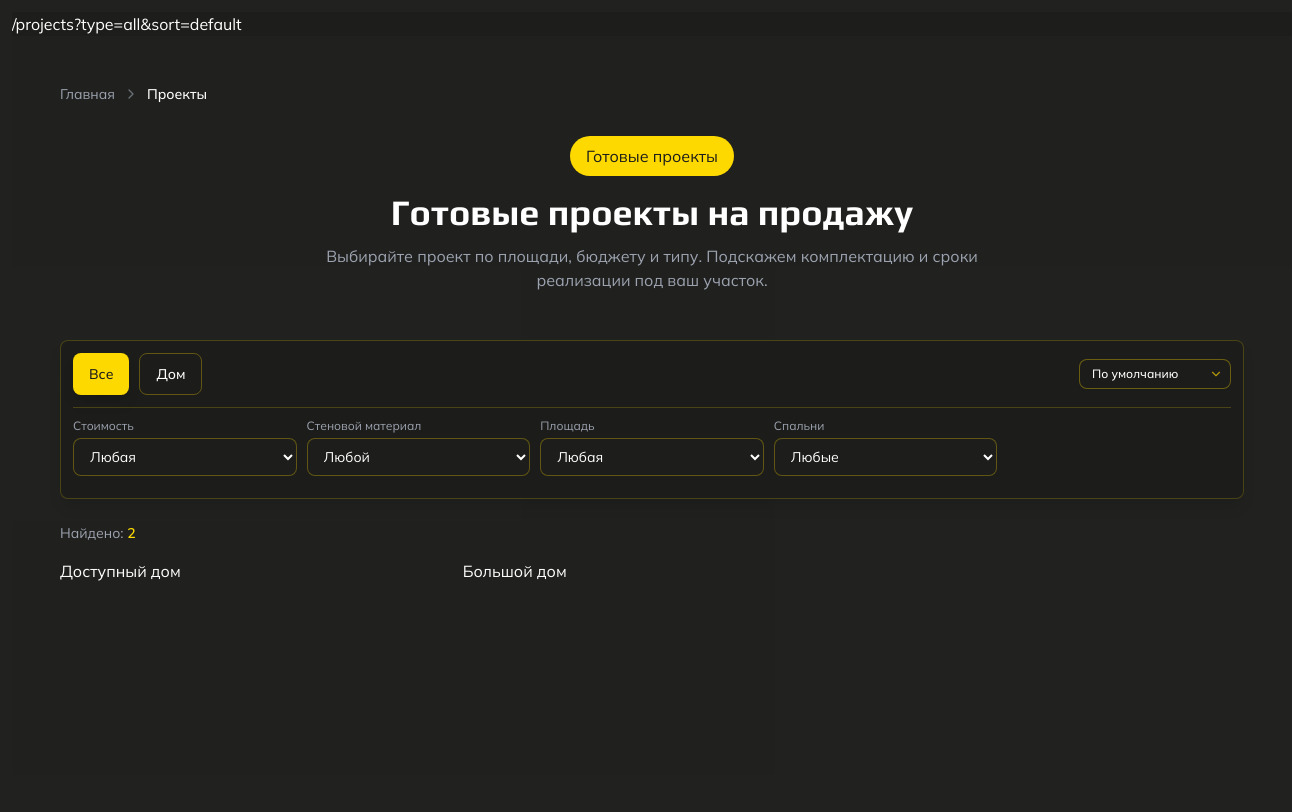
Test: catalog filters UI › показывает только непустые типы и диапазоны стоимости готовых проектов
Check: the button "Дом" is shown, box left=140, top=353, right=202, bottom=395
Check: the dropdown labelled "Спальни" is shown, box left=774, top=438, right=997, bottom=476
Step 1. Select "до 30 000 ₽" in the dropdown labelled "Стоимость" → coordinates (185, 457), box left=73, top=438, right=297, bottom=476
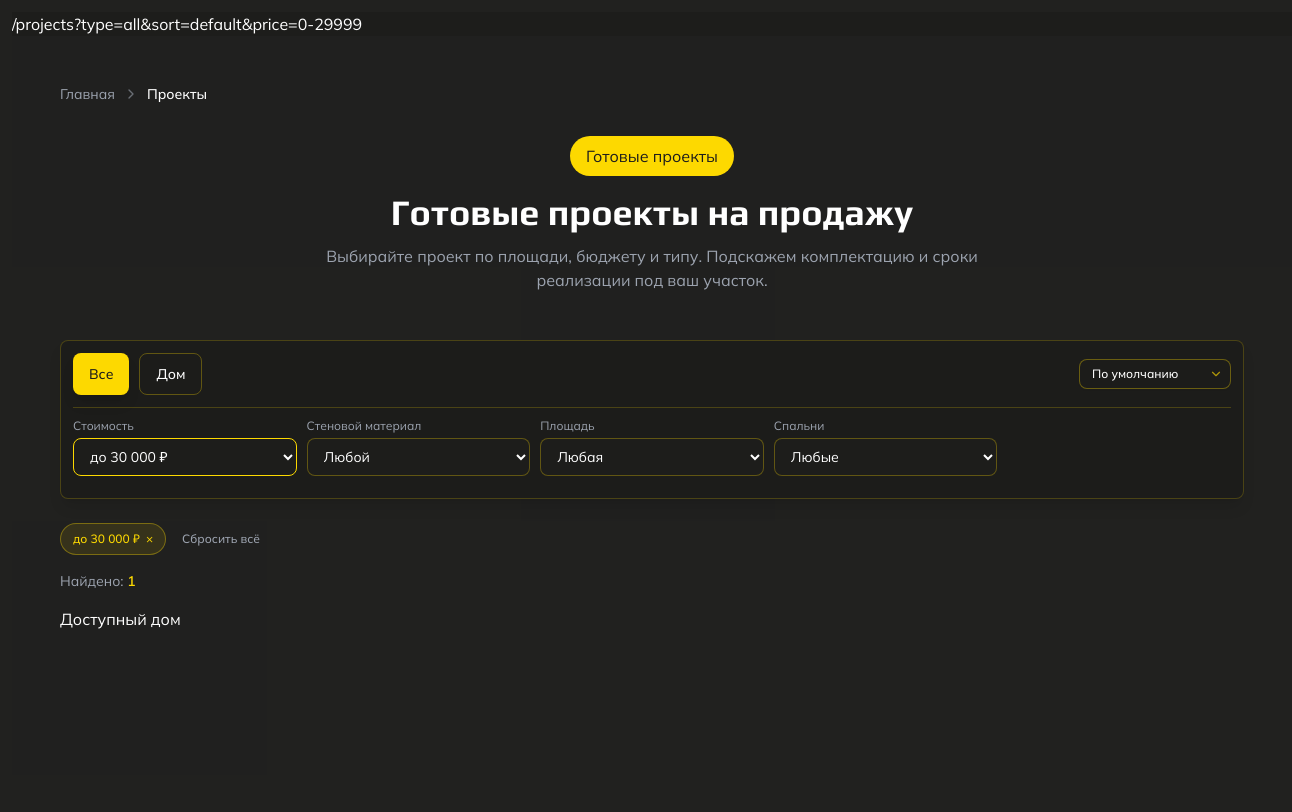
Check: the link "Большой дом" is gone
Check: the button with aria-label "Удалить фильтр до 30 000 ₽" is shown, box left=60, top=523, right=166, bottom=555
Check: the text with test id "location" shows "price=0-29999", box left=74, top=14, right=362, bottom=34
